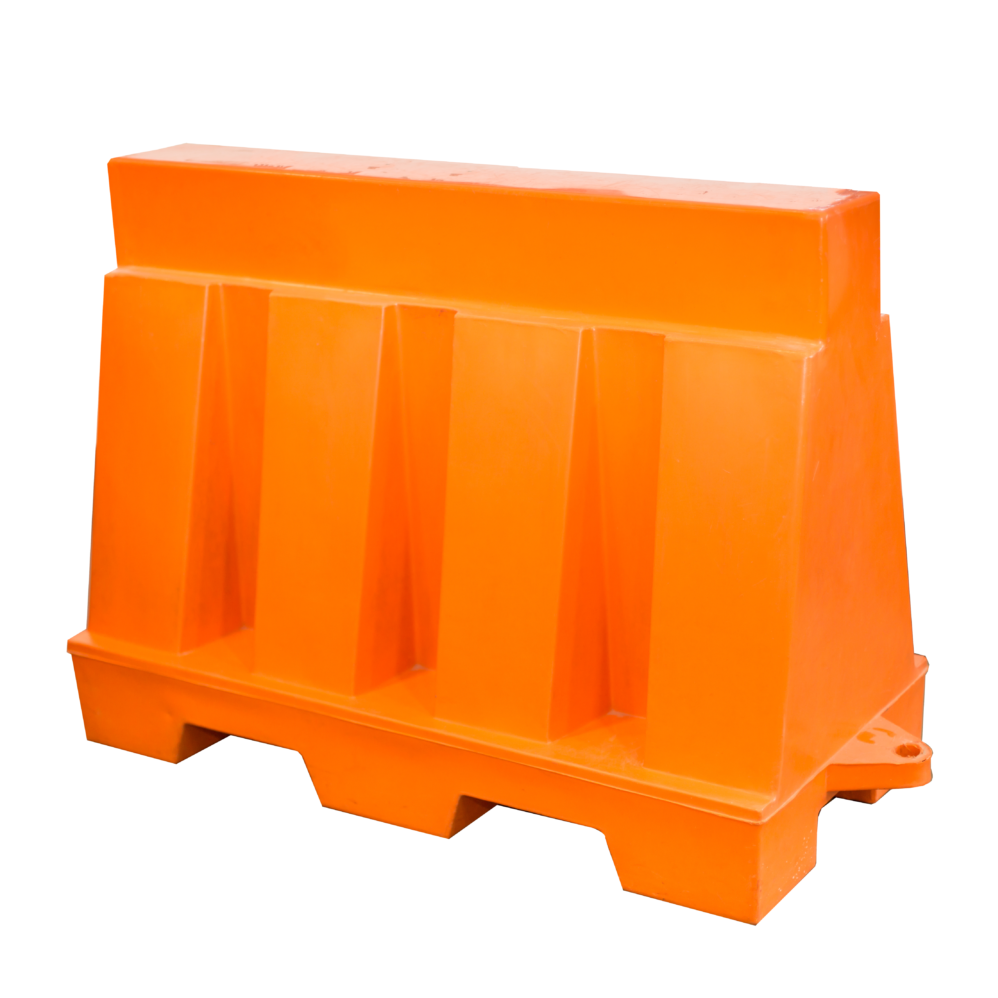Barrier: (37, 132, 988, 925)
